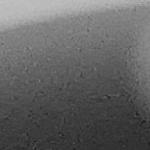colony: (118, 16, 150, 131)
